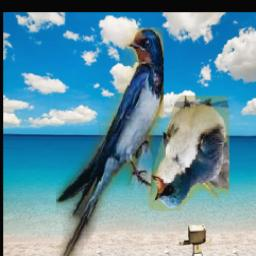Swallow: (57, 28, 165, 256), (147, 95, 229, 211)
